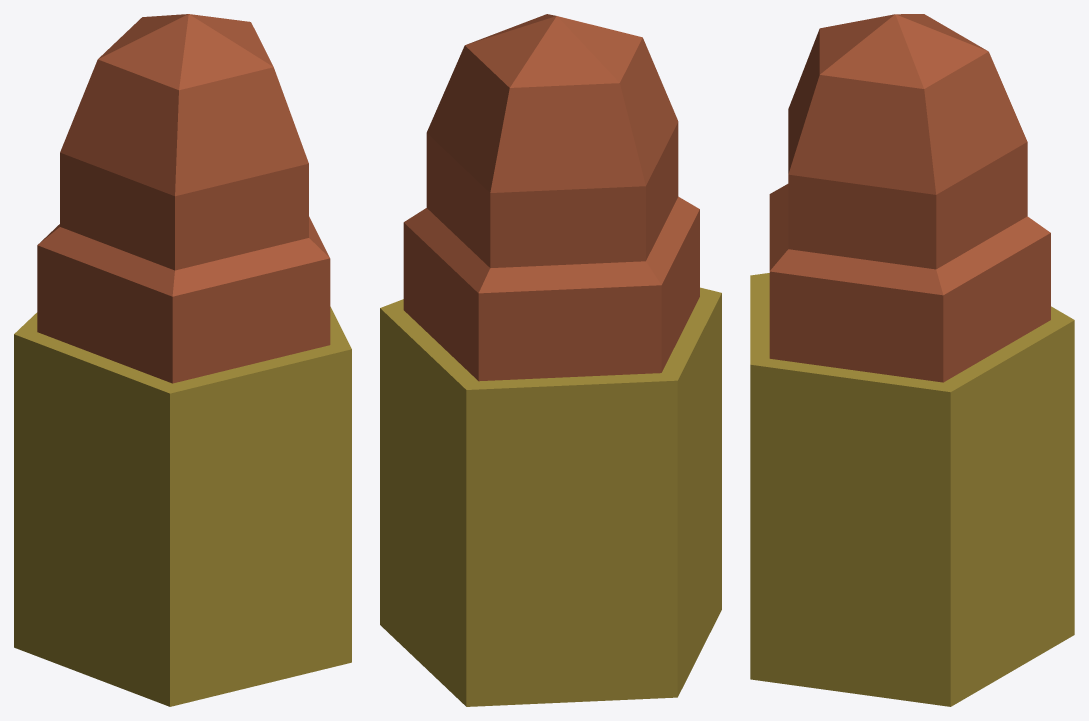
File: LPWarPack_Shell.fbx
The picture shows the model from 3 angles, left to right: view 1: azimuth 30°, elevation 25°; view 2: azimuth 150°, elevation 25°; view 3: azimuth 270°, elevation 25°; orthographic projection.
Visible parts, largest first — view 1: Shell; view 2: Shell; view 3: Shell.
Part boxes in pixels (<box>): Shell: <box>14,14,351,706</box>; Shell: <box>380,14,721,706</box>; Shell: <box>750,14,1074,706</box>.
Size of the model in its own units: 14.51 by 29.11 by 13.8.
